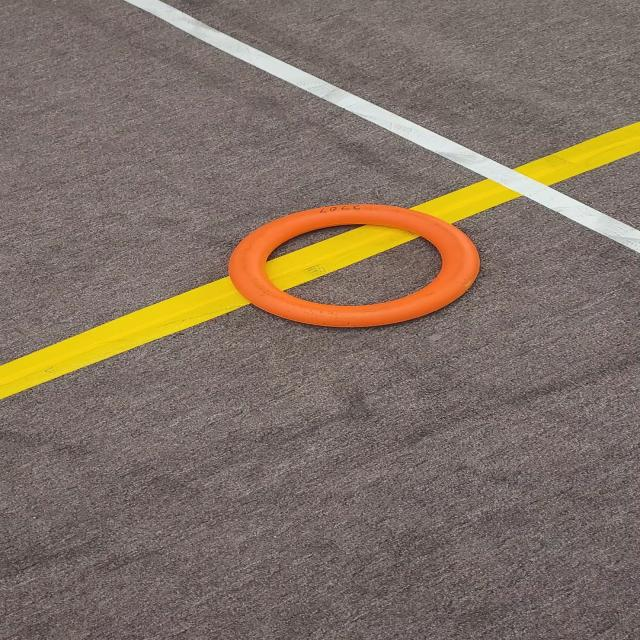note: (223, 198, 490, 338)
